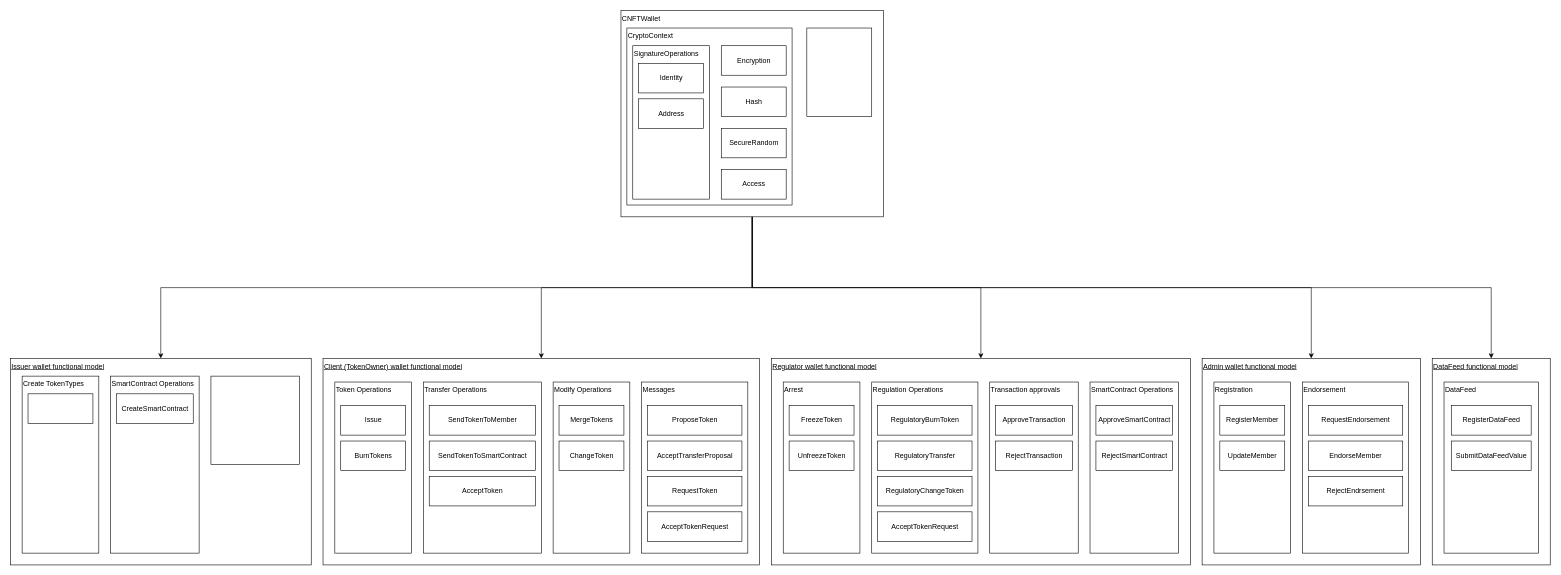
Image size: 1561x575. Some labels were removed from this diagram. Each missing label, with the centre of its shape:
ChainInterface: the point at 839,72
Client (TokenOwner) Operations: the point at 254,420
RegisterTokenType: the point at 60,408
